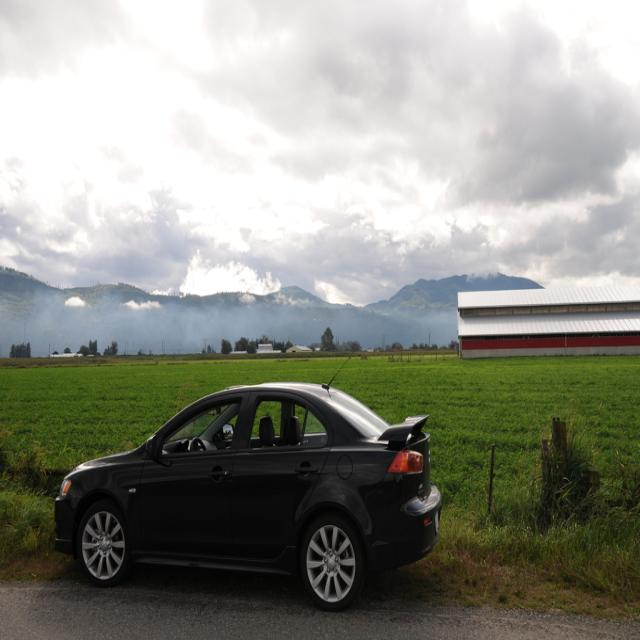car: (42, 379, 438, 612)
